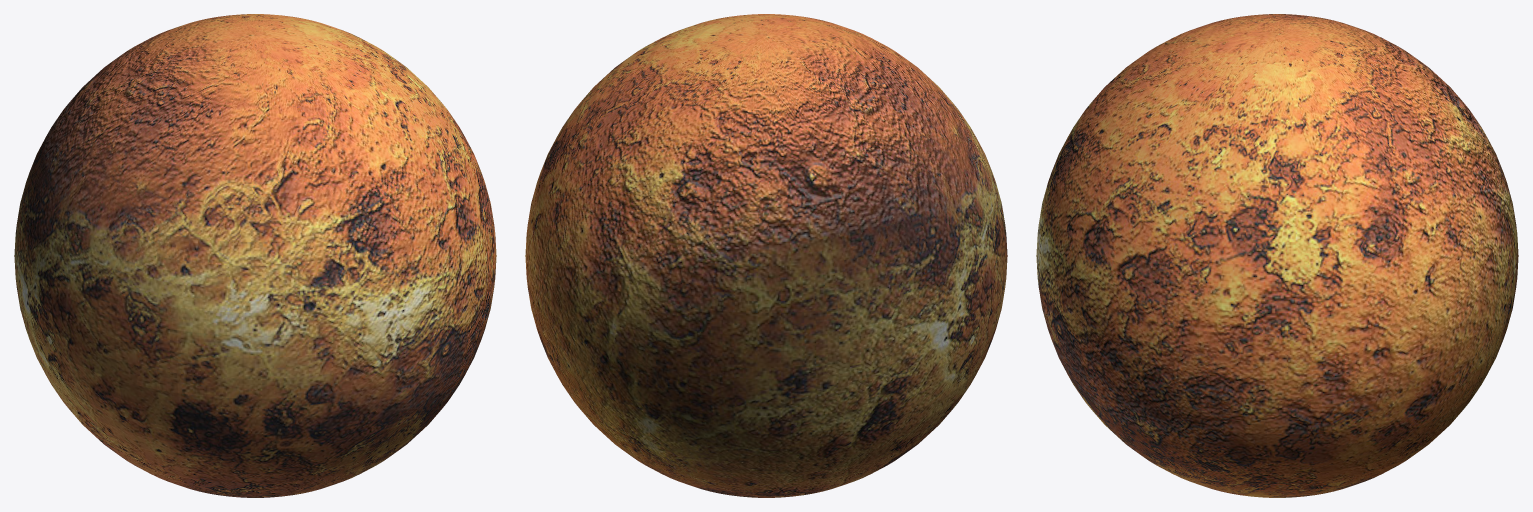
Rendered from venus.obj.
The picture shows the model from 3 angles, left to right: view 1: azimuth 30°, elevation 25°; view 2: azimuth 150°, elevation 25°; view 3: azimuth 270°, elevation 25°; orthographic projection.
Parts seen in each view (by area): view 1: Sphere; view 2: Sphere; view 3: Sphere.
Boxes of the visible parts, x1,y1,x2,y2 form: Sphere: (14,14,496,497); Sphere: (525,14,1007,497); Sphere: (1036,14,1518,497).
Bounding box in the file's own units: 1.97 × 2 × 1.98.
1 material, 1 textured.
